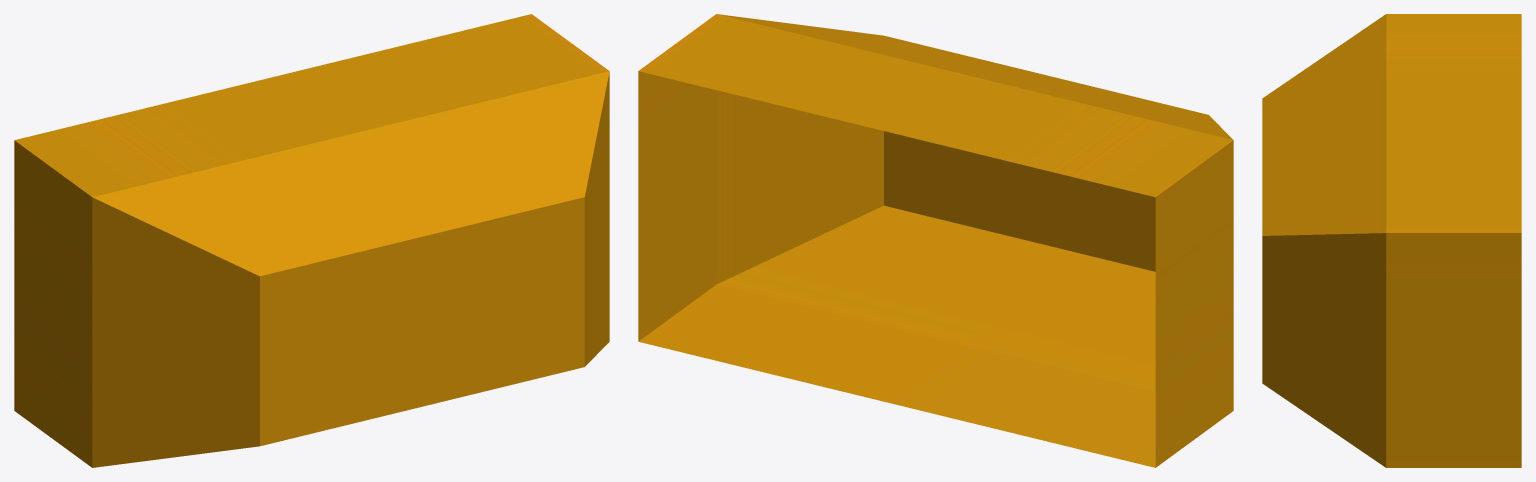
The model's file is BlockOrange.fbx.
3 views of the same model, side by side, from view 1: azimuth 30°, elevation 25°; view 2: azimuth 150°, elevation 25°; view 3: azimuth 270°, elevation 25° (orthographic). The views are drawn at different scales.
Parts seen in each view (by area): view 1: BlockOrange; view 2: BlockOrange; view 3: BlockOrange.
Part boxes in pixels (x1,y1,x2,y2): BlockOrange: (14, 14, 609, 467); BlockOrange: (638, 14, 1233, 467); BlockOrange: (1262, 14, 1521, 467).
Bounding box in the file's own units: 108 × 54.18 × 54.18.
Materials: 1 (1 with a texture image).
